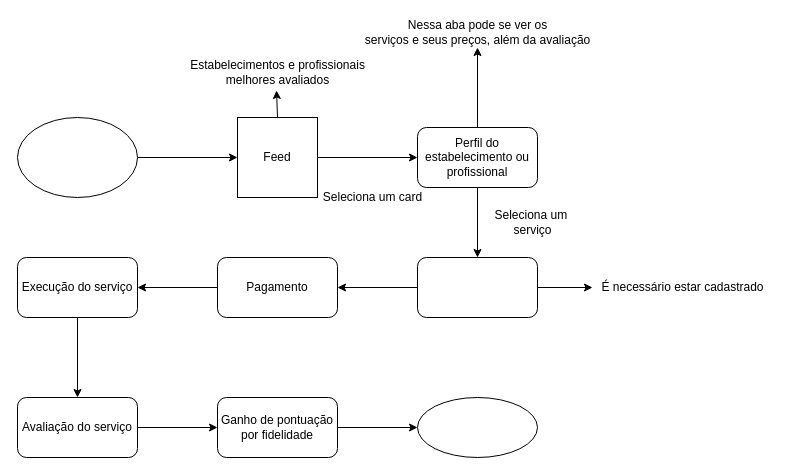
Image size: 790x475. Some labels were removed from this diagram. The shapes that lost their labels are listed below. From the top down, each one's centre as x and y in pixels, then its label:
At (x=77, y=157): "Início".
At (x=477, y=287): "Agendamento".
At (x=477, y=427): "Fim".
